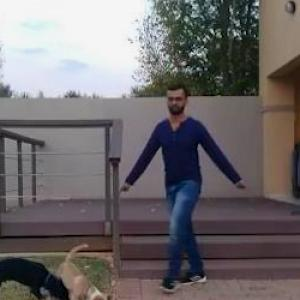land: (122, 85, 252, 298)
